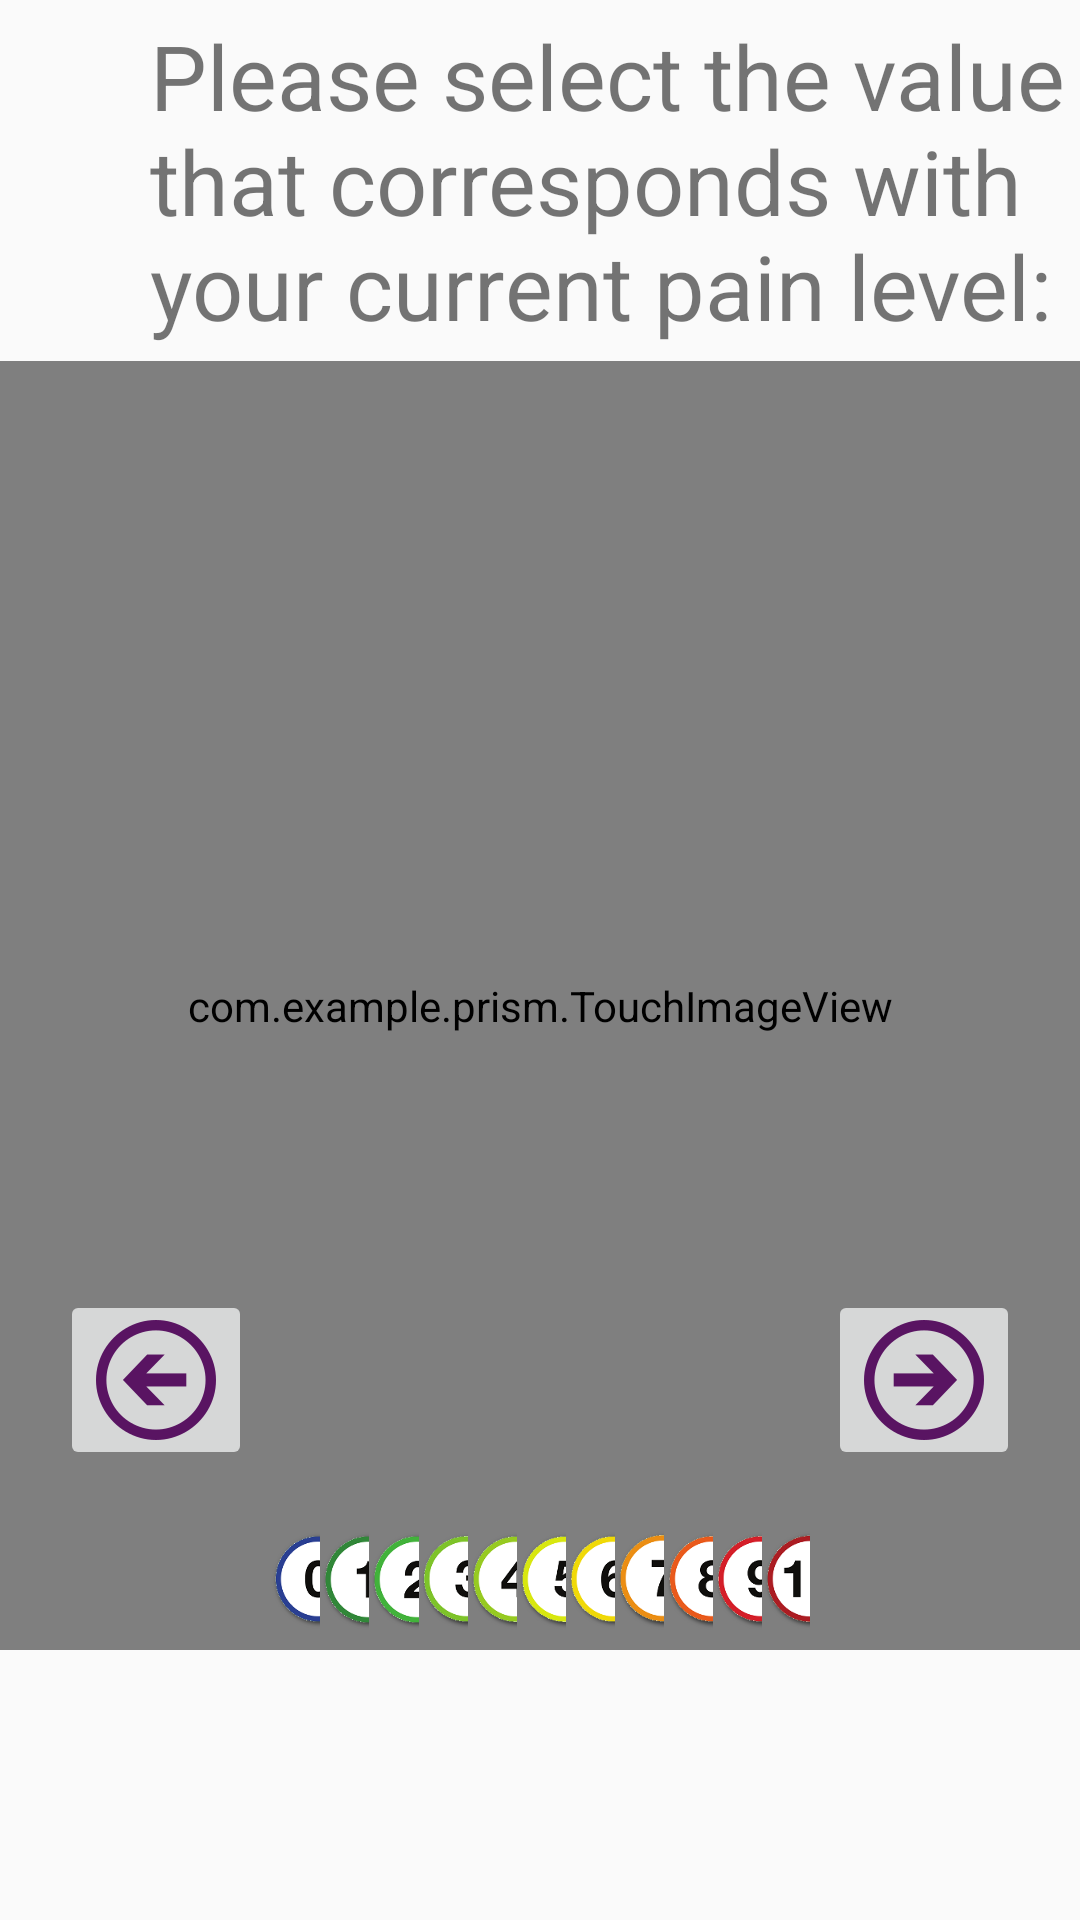

Point at icon controls on the screen. Image size 1080x1920, points as (x=x, y=y).
backarrow: (x=156, y=1380)
forwardarrow: (x=924, y=1380)
